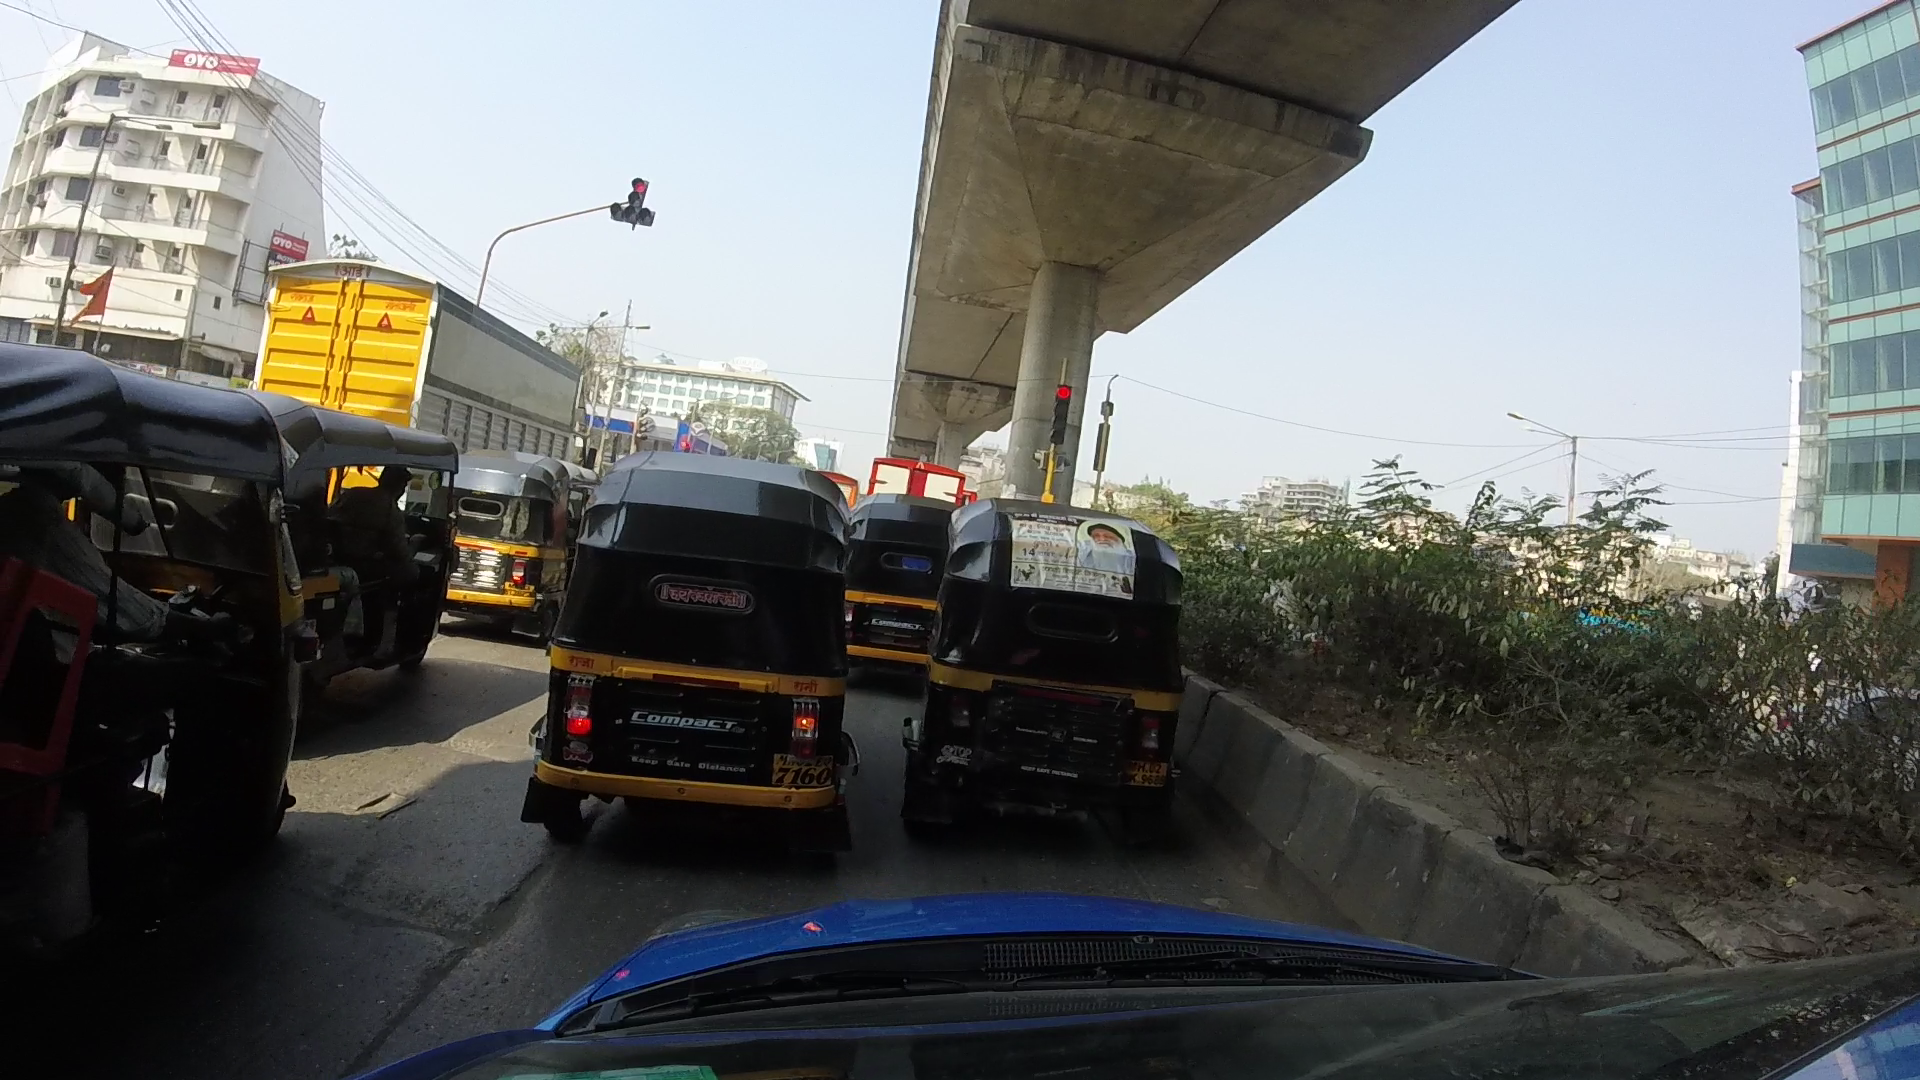rickshaw: (1, 348, 348, 1054), (524, 431, 851, 862), (895, 481, 1221, 862), (243, 372, 468, 723), (442, 413, 595, 637), (822, 481, 986, 666)
truck: (212, 237, 601, 477)
